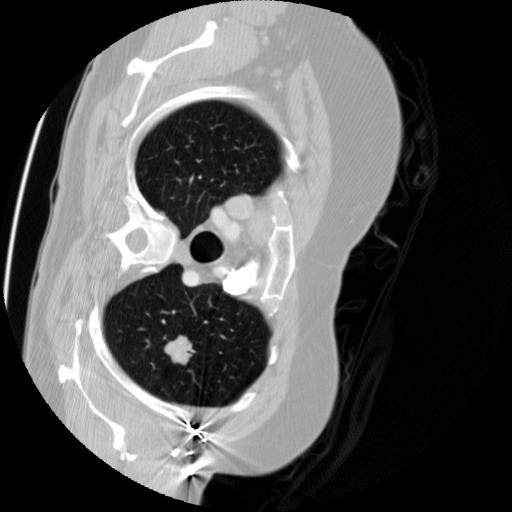nodule: (162, 332, 198, 368)
